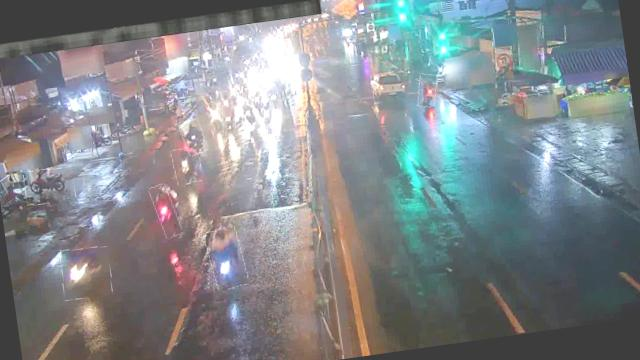Bike: (59, 244, 114, 300), (204, 226, 248, 290), (22, 165, 76, 206), (150, 182, 180, 239), (170, 145, 202, 184), (179, 118, 207, 156), (238, 98, 262, 132), (415, 73, 438, 108), (258, 100, 274, 130), (208, 102, 222, 134), (220, 106, 237, 132), (220, 90, 230, 109)
Car: (371, 70, 406, 103)
